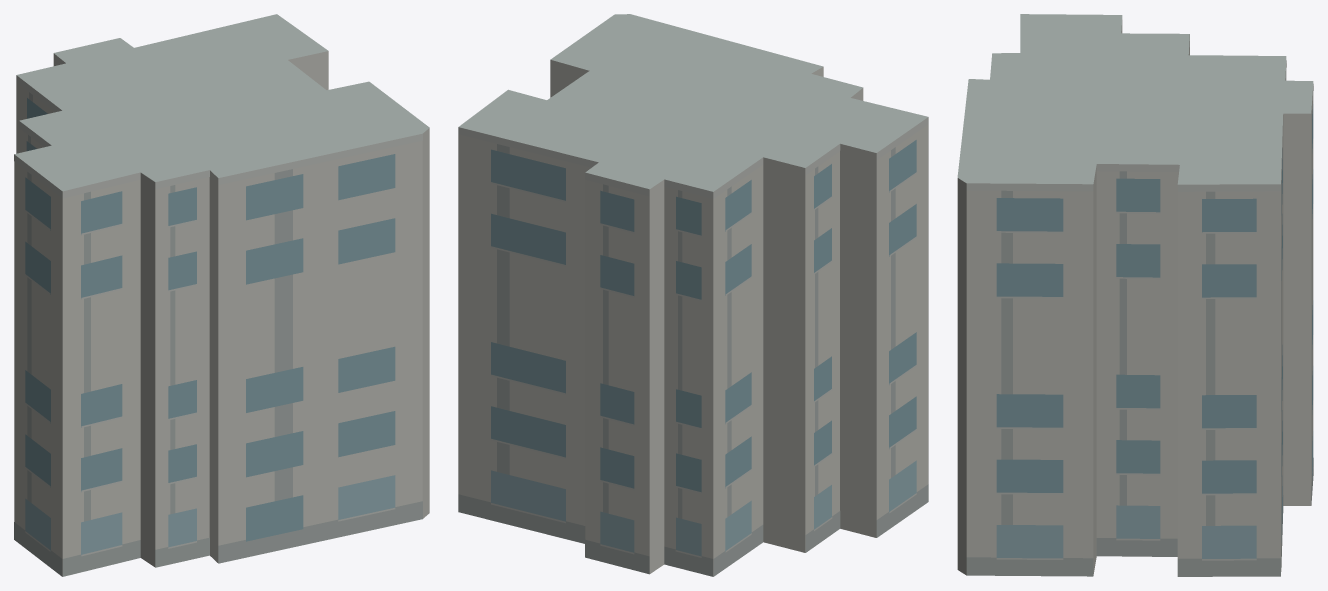
The model's file is survey-upis-32811862.glb.
3 renders of one model, left to right at view 1: azimuth 30°, elevation 25°; view 2: azimuth 150°, elevation 25°; view 3: azimuth 270°, elevation 25°, orthographic.
Visible parts, largest first — view 1: survey-upis-32811862.tmp; view 2: survey-upis-32811862.tmp; view 3: survey-upis-32811862.tmp.
Boxes of the visible parts, x1,y1,x2,y2 form: survey-upis-32811862.tmp: (14,14,429,576); survey-upis-32811862.tmp: (458,14,928,576); survey-upis-32811862.tmp: (957,14,1313,576).
Size of the model in its own units: 12.33 by 13.2 by 10.87.
